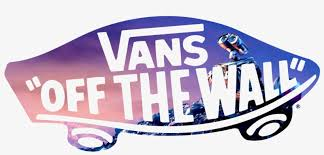vans: (95, 24, 209, 72)
